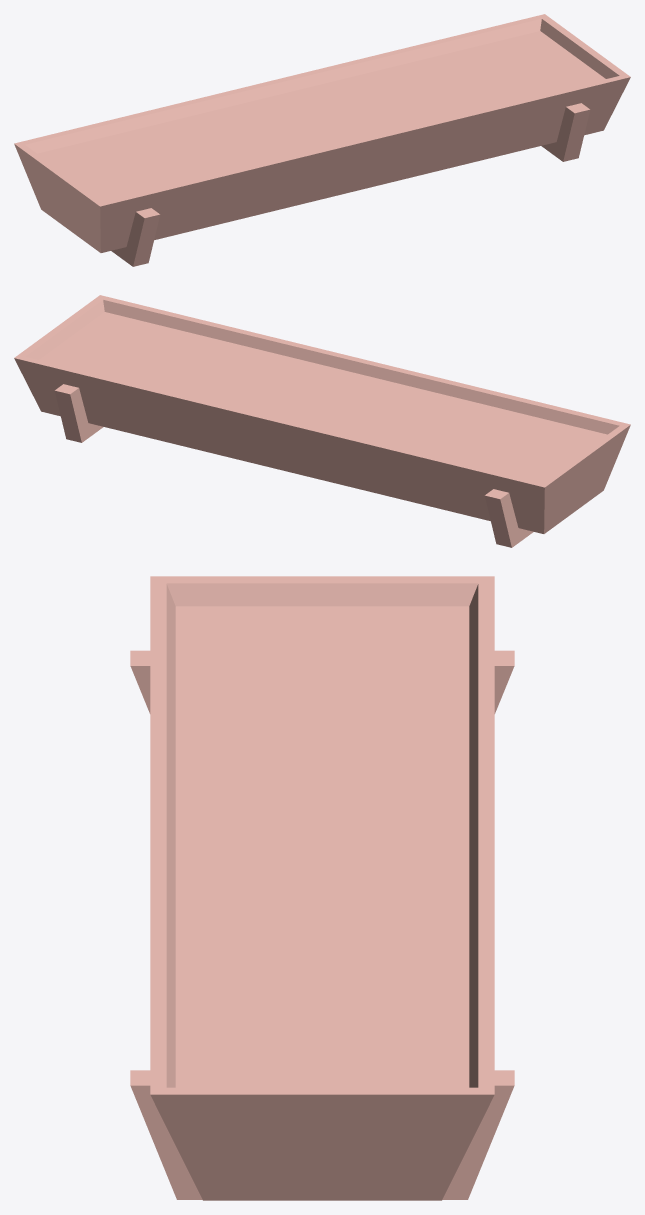
Rendered from Mega_Asset_s_Pack_Cube_316.FBX.
3 views of the same model, one above another, from view 1: azimuth 30°, elevation 25°; view 2: azimuth 150°, elevation 25°; view 3: azimuth 270°, elevation 25° (orthographic). The views are drawn at different scales.
Visible parts, largest first — view 1: Mega_Asset_s_Pack_Cube_316; view 2: Mega_Asset_s_Pack_Cube_316; view 3: Mega_Asset_s_Pack_Cube_316.
Boxes of the visible parts, left/top/right/bottom form: Mega_Asset_s_Pack_Cube_316: left=14, top=14, right=630, bottom=266; Mega_Asset_s_Pack_Cube_316: left=14, top=295, right=630, bottom=547; Mega_Asset_s_Pack_Cube_316: left=130, top=576, right=514, bottom=1200.
Size of what is drawn, in the model's own units: 391 by 123 by 52.76.
